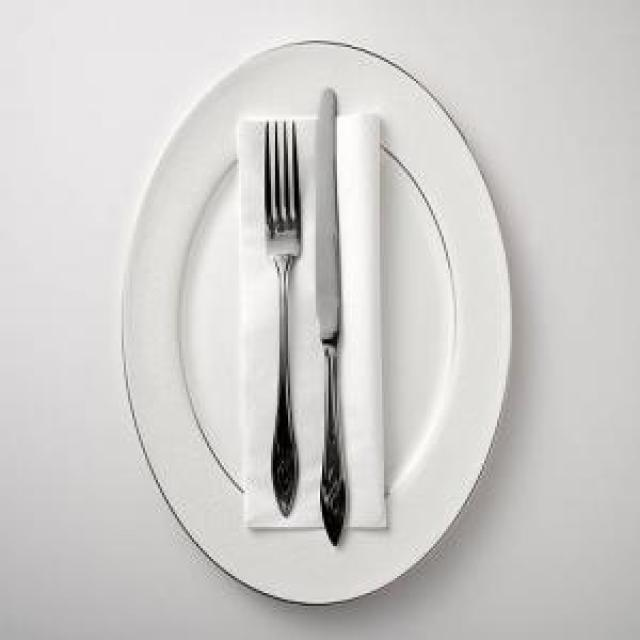knife: (308, 88, 374, 554)
